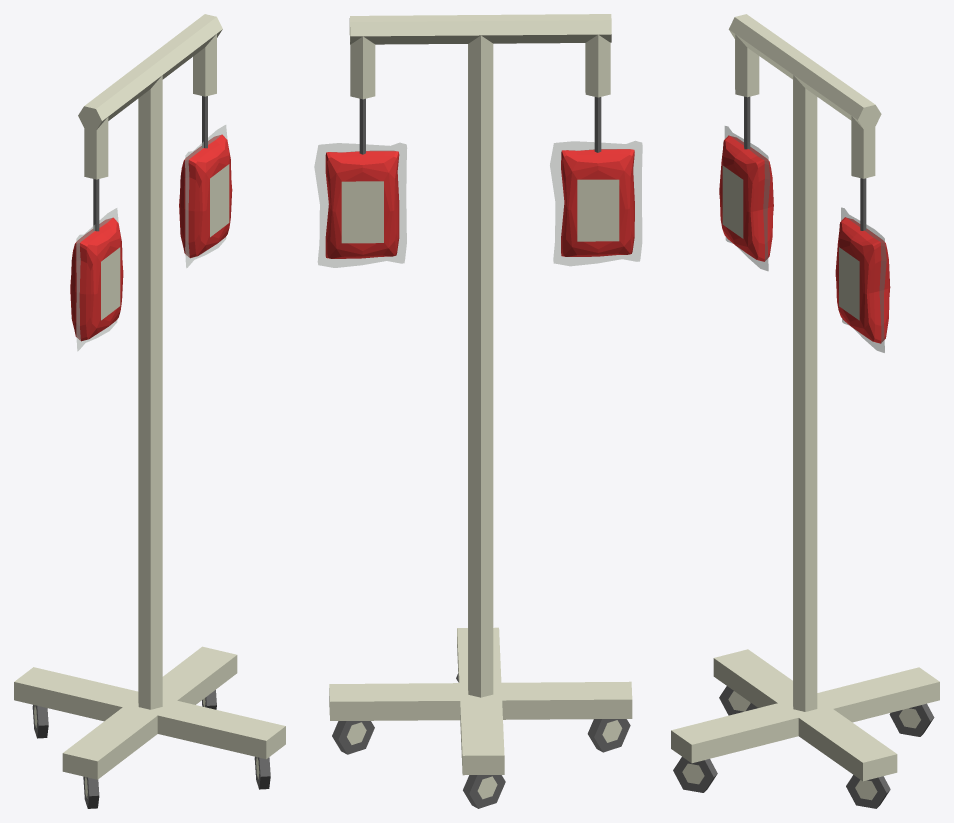
The model's file is blood-bag-hospital.fbx.
3 views of the same model, side by side, from view 1: azimuth 30°, elevation 25°; view 2: azimuth 150°, elevation 25°; view 3: azimuth 270°, elevation 25° (orthographic). The views are drawn at different scales.
Visible parts, largest first — view 1: blood-bag-hospital; view 2: blood-bag-hospital; view 3: blood-bag-hospital.
Boxes of the visible parts, x1,y1,x2,y2 form: blood-bag-hospital: (14, 14, 285, 808); blood-bag-hospital: (314, 14, 642, 808); blood-bag-hospital: (671, 14, 939, 808).
Size of the model in its own units: 116 by 330 by 115.
